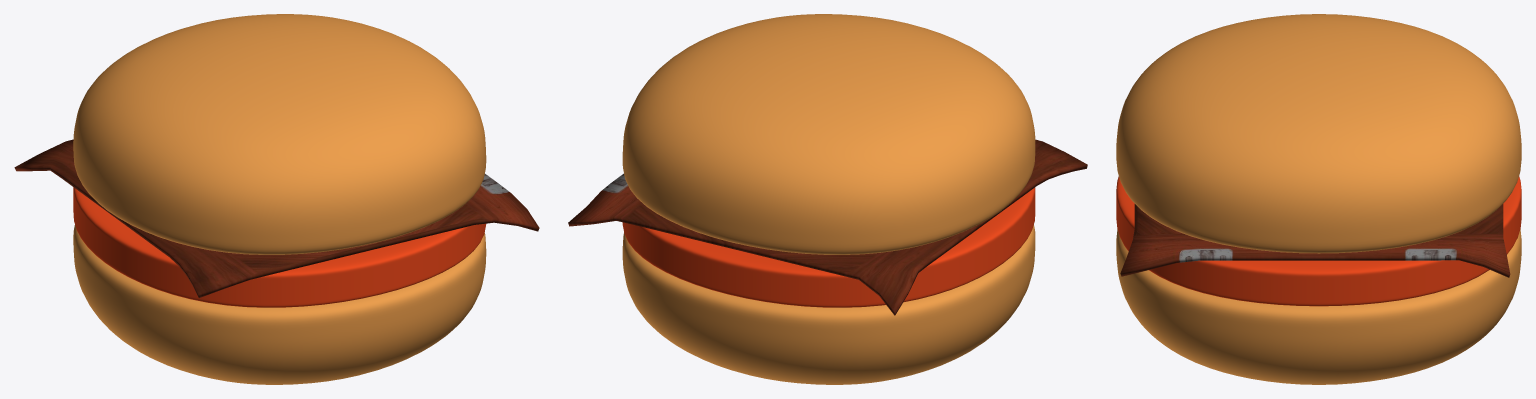
File: hamburguer.glb
The picture shows the model from 3 angles, left to right: view 1: azimuth 30°, elevation 25°; view 2: azimuth 150°, elevation 25°; view 3: azimuth 270°, elevation 25°; orthographic projection.
Visible parts, largest first — view 1: TopBun, BottomBun, Meet, Cheese; view 2: TopBun, BottomBun, Meet, Cheese; view 3: TopBun, BottomBun, Meet, Cheese.
Boxes of the visible parts, bbox=[...] form: TopBun: bbox=[73, 14, 486, 254]; BottomBun: bbox=[73, 225, 486, 384]; Meet: bbox=[73, 187, 486, 307]; Cheese: bbox=[14, 139, 539, 297]; TopBun: bbox=[622, 14, 1035, 254]; BottomBun: bbox=[622, 225, 1035, 384]; Meet: bbox=[622, 187, 1035, 307]; Cheese: bbox=[568, 139, 1087, 315]; TopBun: bbox=[1116, 14, 1521, 253]; BottomBun: bbox=[1116, 229, 1521, 384]; Meet: bbox=[1116, 176, 1521, 306]; Cheese: bbox=[1120, 204, 1510, 277].
Bounding box in the file's own units: 8.78 × 6.77 × 8.78.
Materials: 3 (1 with a texture image).
